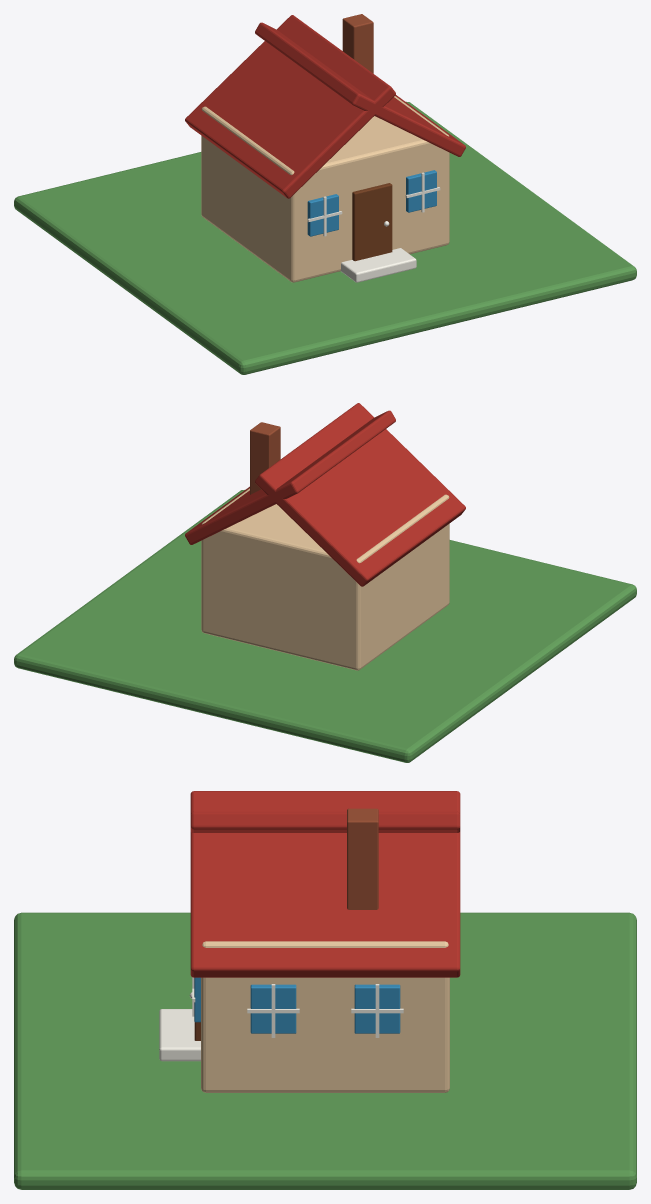
Rendered from casa_simple.glb.
The picture shows the model from 3 angles, top to bottom: view 1: azimuth 30°, elevation 25°; view 2: azimuth 150°, elevation 25°; view 3: azimuth 270°, elevation 25°; orthographic projection. The views are drawn at different scales.
Parts seen in each view (by area): view 1: Terreno, Casa, Techo izquierdo, Techo derecho, Puerta, Escalon, Chimenea, Ventana frontal -1.85, Ventana frontal 1.85; view 2: Terreno, Casa, Techo izquierdo, Techo derecho, Chimenea; view 3: Terreno, Techo derecho, Casa, Techo izquierdo, Chimenea, Ventana lateral 1.25, Ventana lateral -1.25, Escalon.
Boxes of the visible parts, x1,y1,x2,y2 form: Terreno: (14,101,636,374); Casa: (201,96,449,282); Techo izquierdo: (185,15,395,198); Techo derecho: (255,22,465,156); Puerta: (352,183,392,261); Escalon: (340,248,416,282); Chimenea: (342,14,373,73); Ventana frontal -1.85: (307,194,338,236); Ventana frontal 1.85: (406,170,436,212); Terreno: (14,490,636,762); Casa: (201,488,449,670); Techo izquierdo: (255,403,465,586); Techo derecho: (185,410,395,544); Chimenea: (250,422,280,494); Terreno: (14,912,636,1189); Techo derecho: (190,791,460,977); Casa: (201,941,449,1092); Techo izquierdo: (190,811,460,832); Chimenea: (347,808,378,909); Ventana lateral 1.25: (354,984,400,1033); Ventana lateral -1.25: (250,984,296,1033); Escalon: (159,1009,200,1061).
Bounding box in the file's own units: 15 × 7.35 × 15.
